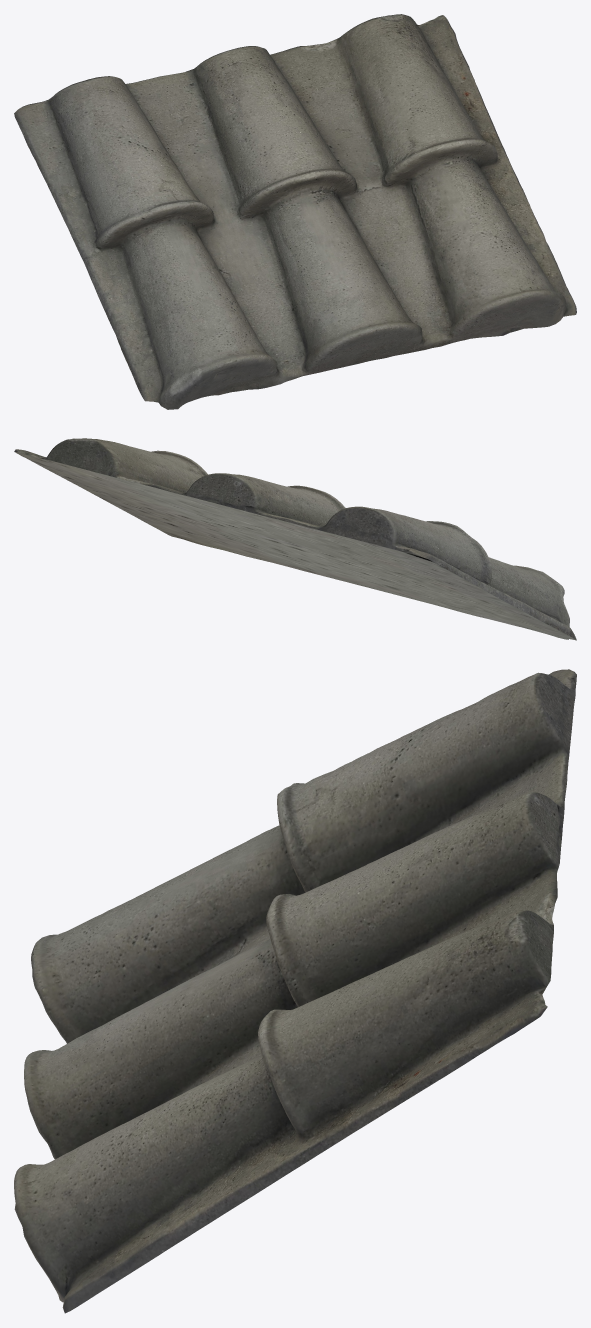
Rendered from Retopo_3DModel_mesh.054.glb.
The picture shows the model from 3 angles, top to bottom: view 1: azimuth 30°, elevation 25°; view 2: azimuth 150°, elevation 25°; view 3: azimuth 270°, elevation 25°; orthographic projection. The views are drawn at different scales.
Visible parts, largest first — view 1: Retopo_3DModel_mesh.054; view 2: Retopo_3DModel_mesh.054; view 3: Retopo_3DModel_mesh.054.
Boxes of the visible parts, x1,y1,x2,y2 form: Retopo_3DModel_mesh.054: [14, 14, 576, 409]; Retopo_3DModel_mesh.054: [14, 438, 576, 640]; Retopo_3DModel_mesh.054: [14, 669, 576, 1313].
Bounding box in the file's own units: 4.97 × 2.39 × 3.37.
1 material, 1 textured.
